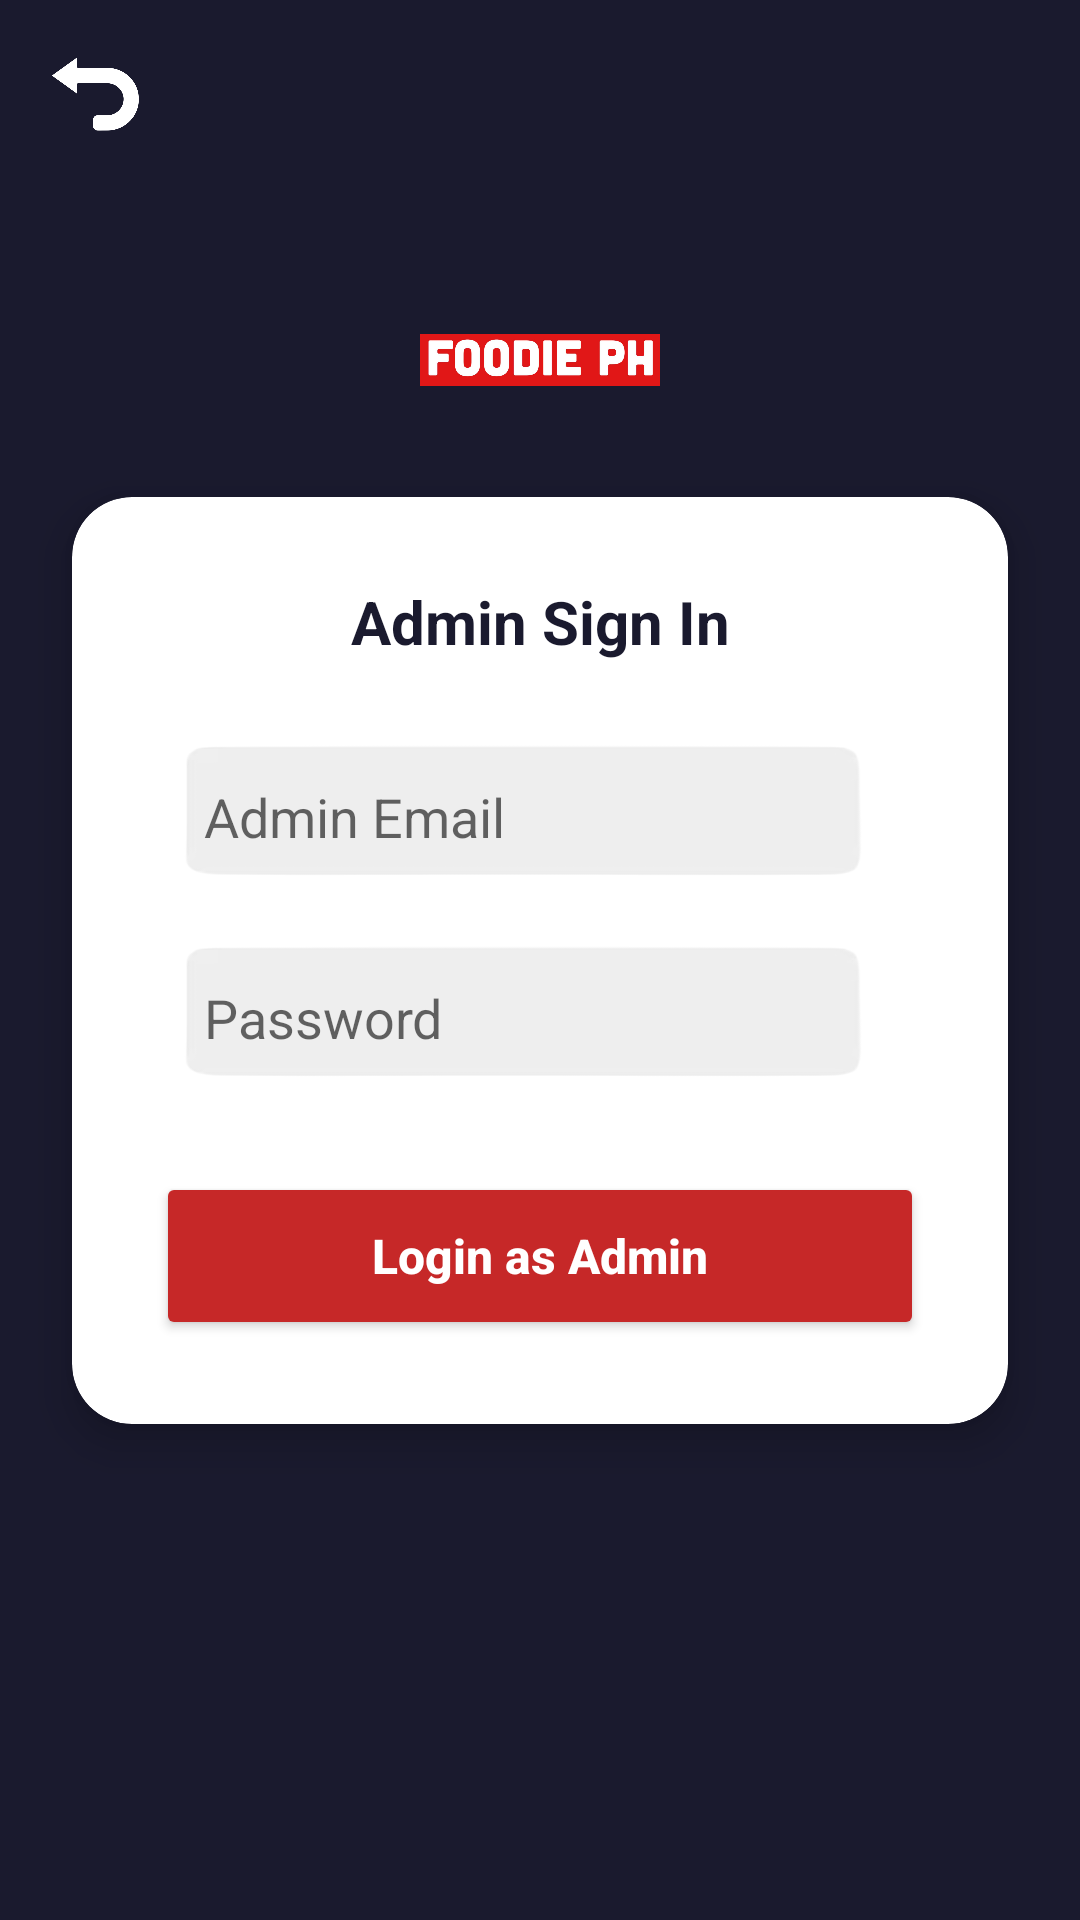

Named icons in this screenshot (1080px x 1920px) and their bounding boxes, (x1, y1, x2, y2):
back: (52, 58, 139, 131)
